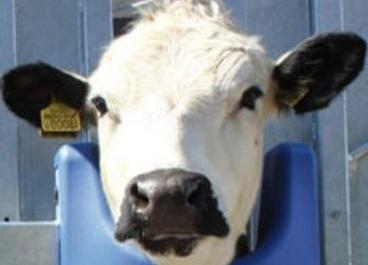muzzles: (112, 169, 233, 261)
